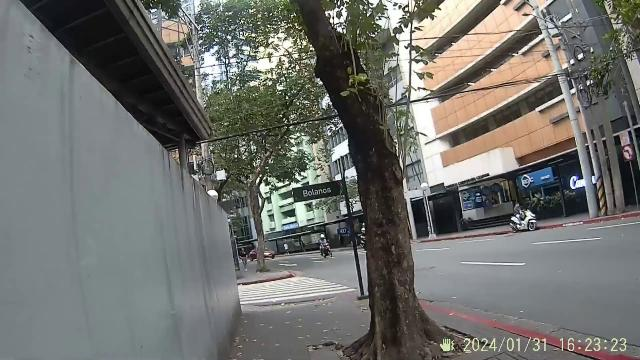motorcycle: (316, 230, 332, 260)
street_sign: (286, 173, 370, 302), (616, 129, 640, 219)
tree: (301, 0, 439, 360), (245, 174, 273, 274)
